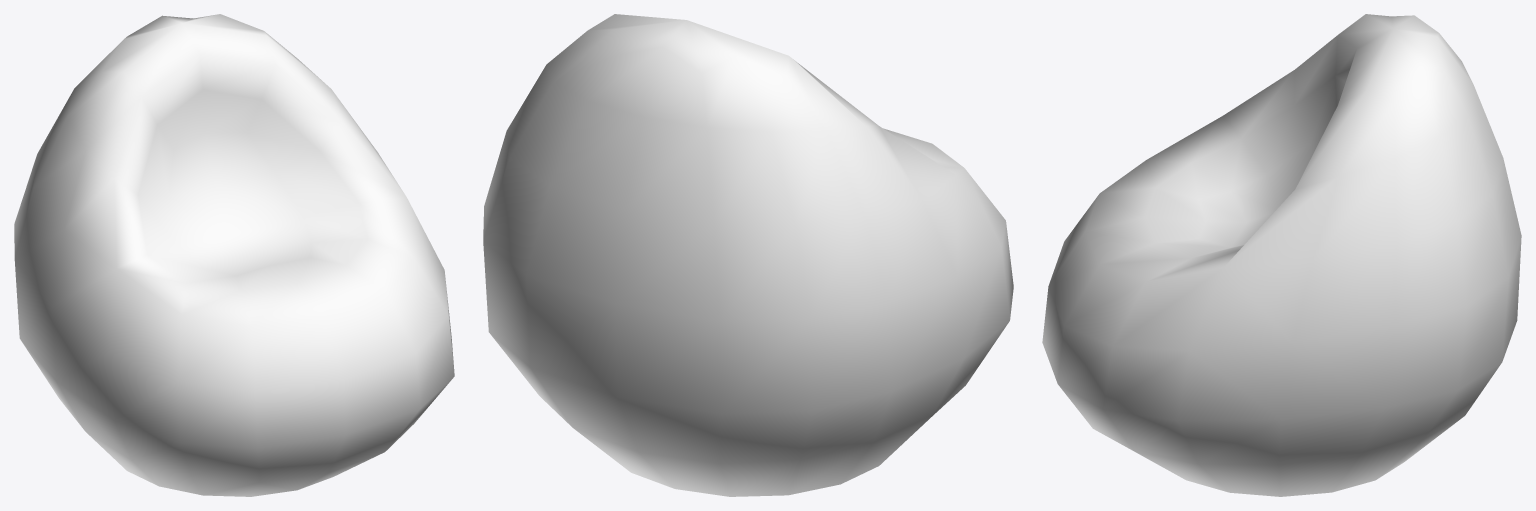
Rendered from chair_060.fbx.
3 views of the same model, side by side, from view 1: azimuth 30°, elevation 25°; view 2: azimuth 150°, elevation 25°; view 3: azimuth 270°, elevation 25° (orthographic). The views are drawn at different scales.
Visible parts, largest first — view 1: chair_060; view 2: chair_060; view 3: chair_060.
Part boxes in pixels (box(x1,y1,x2,y2)): chair_060: box(14, 14, 454, 496); chair_060: box(483, 14, 1013, 496); chair_060: box(1042, 14, 1521, 496).
Size of the model in its own units: 104 by 113 by 107.
